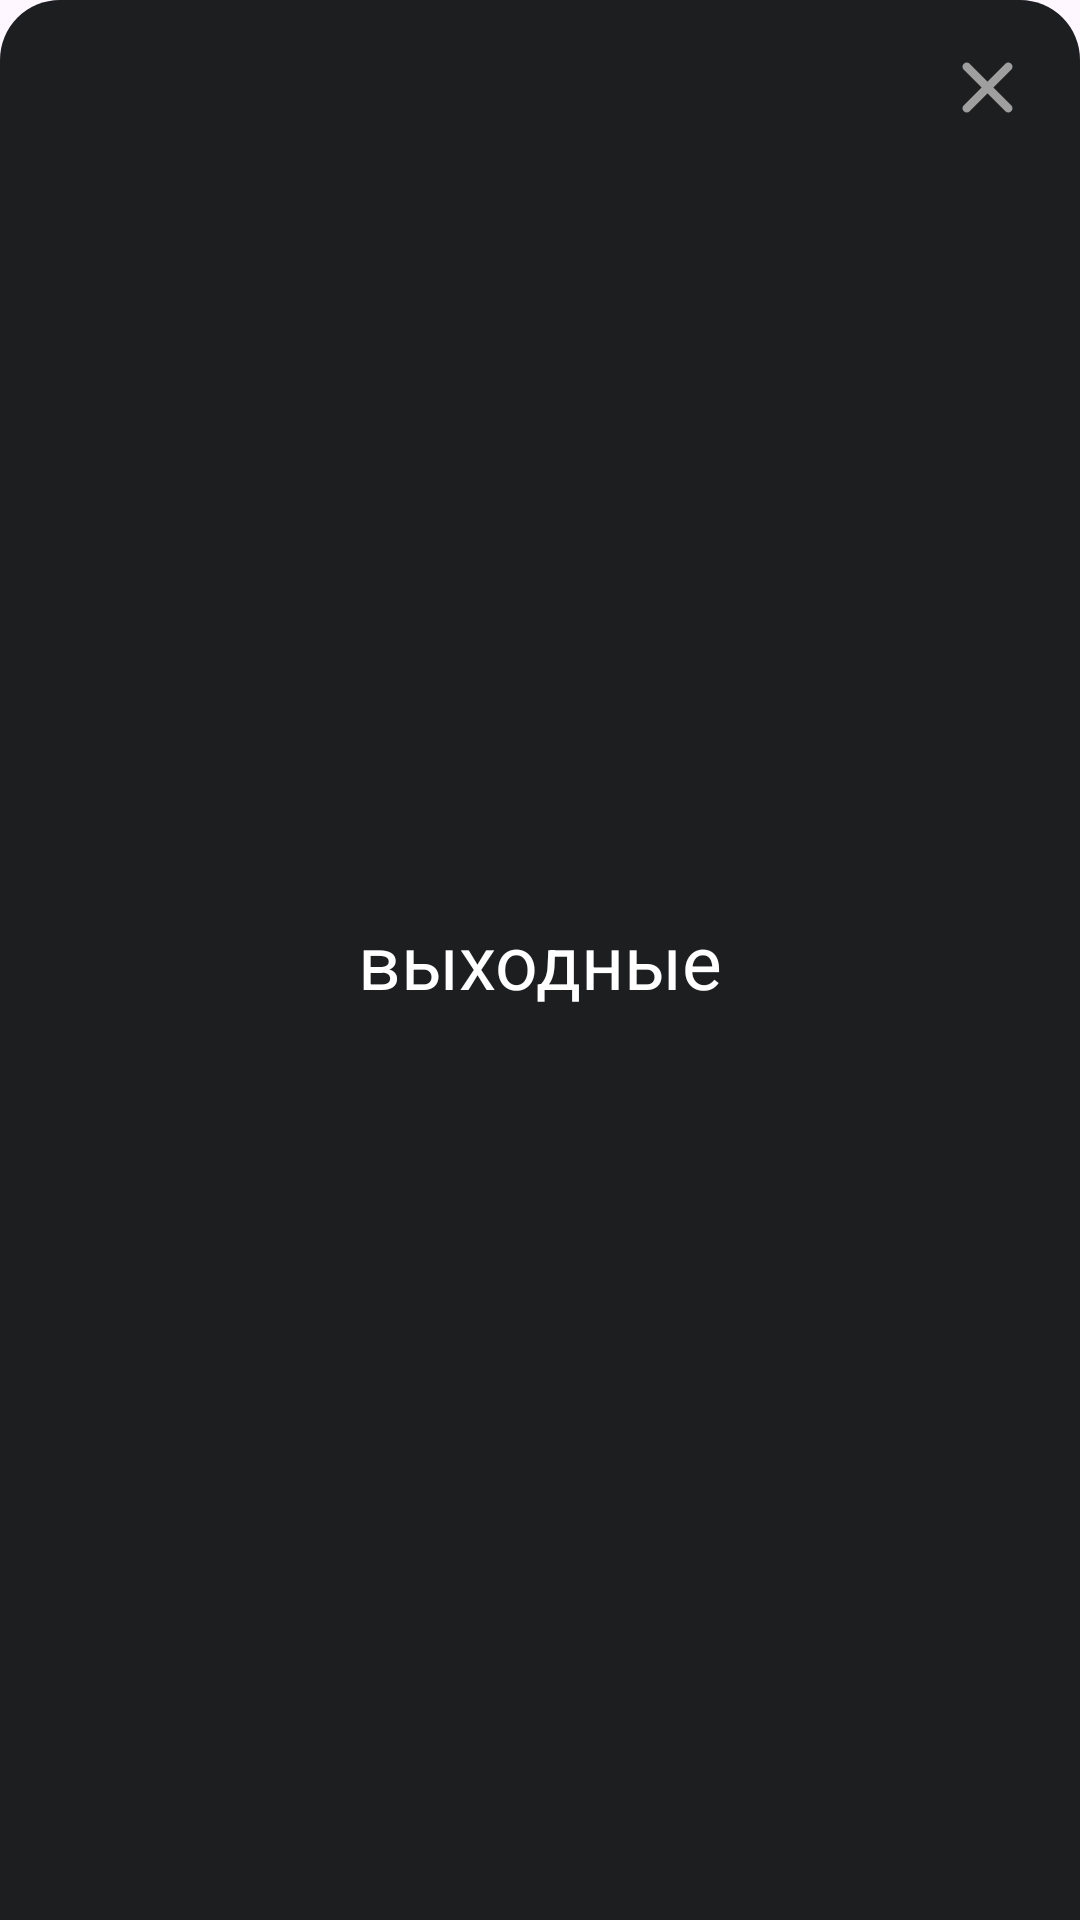

Named icons in this screenshot (1080px×1920px) and their bounding boxes, region(x1, y1, x2, y2):
delete: region(962, 62, 1013, 113)
